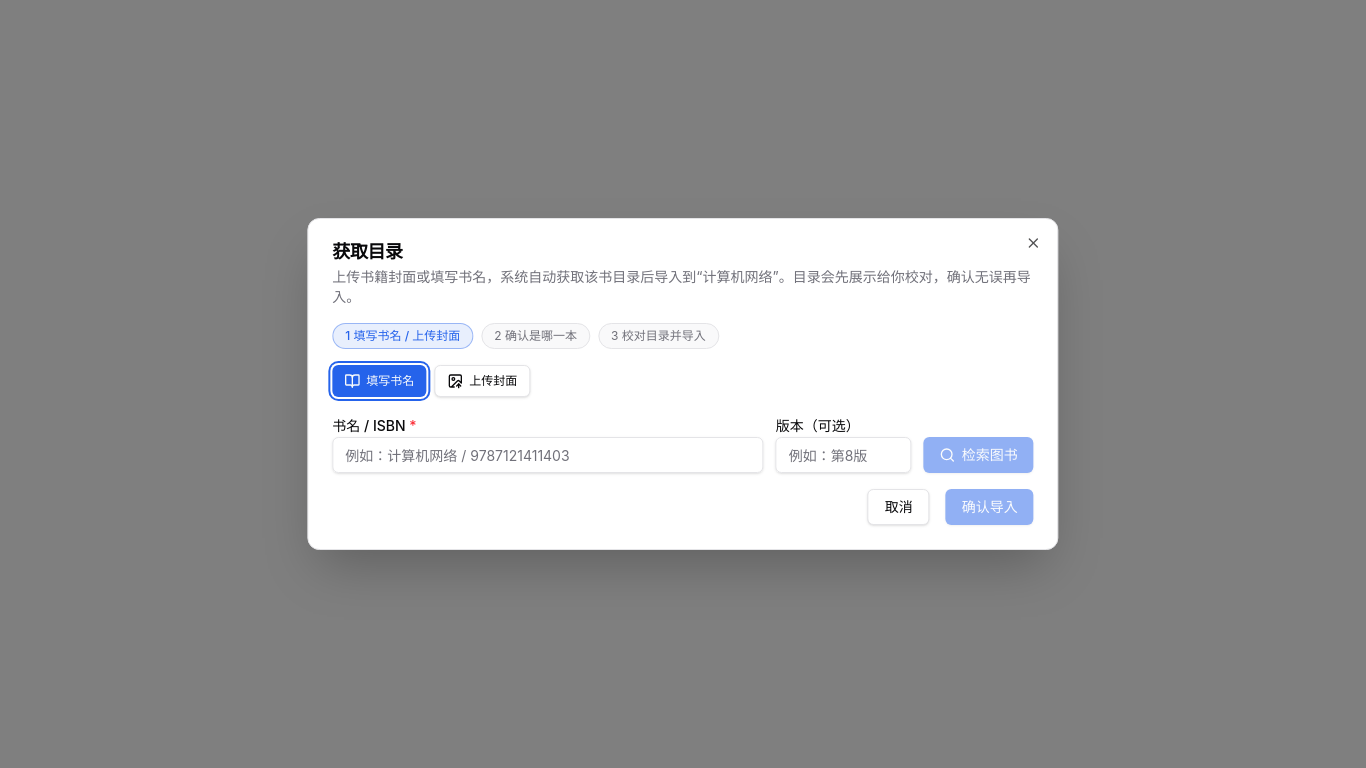
it: KnowledgeCatalogWebDialog › keeps 确认导入 disabled until a catalog is fetched
This screenshot has width=1366, height=768.
expect the button "确认导入" is disabled: met, box [946, 489, 1034, 525]
Type "不存在的书" into the field labelled "书名 / ISBN *" at [548, 455], box [332, 437, 764, 473]
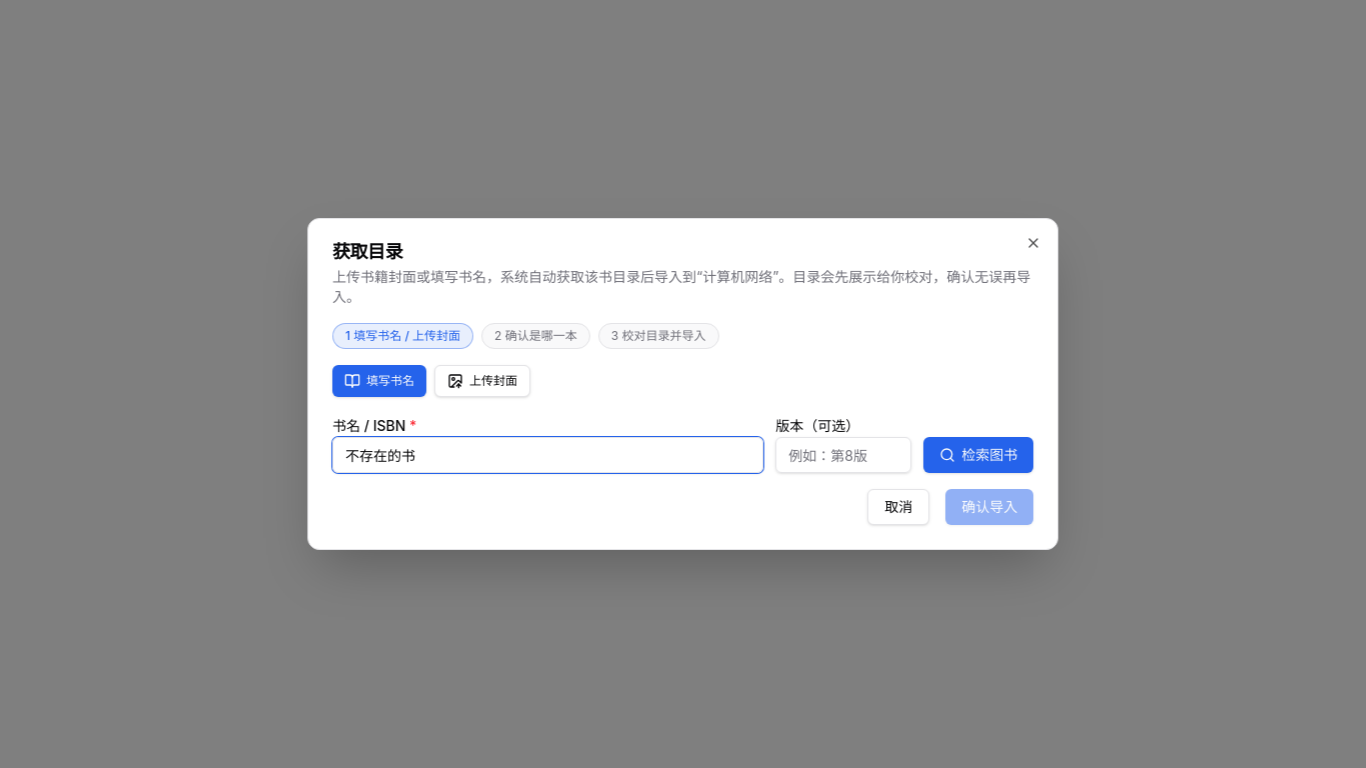
Click the button "检索图书" at [979, 455], box [924, 437, 1034, 473]
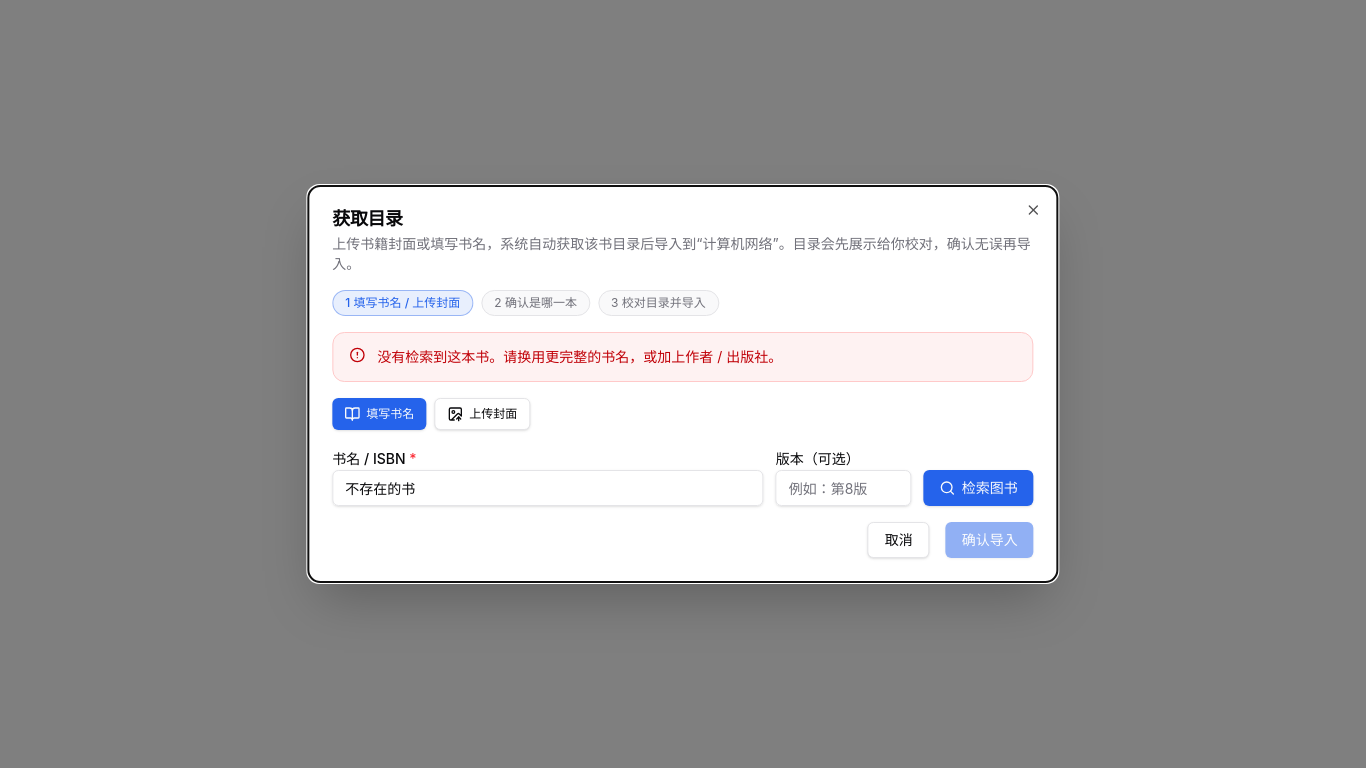
expect the button "确认导入" is disabled: met, box [946, 522, 1034, 558]
expect the text "没有检索到这本书。请换用更完整的书名，或加上作者 / 出版社。" is shown: met, box [377, 345, 782, 369]
